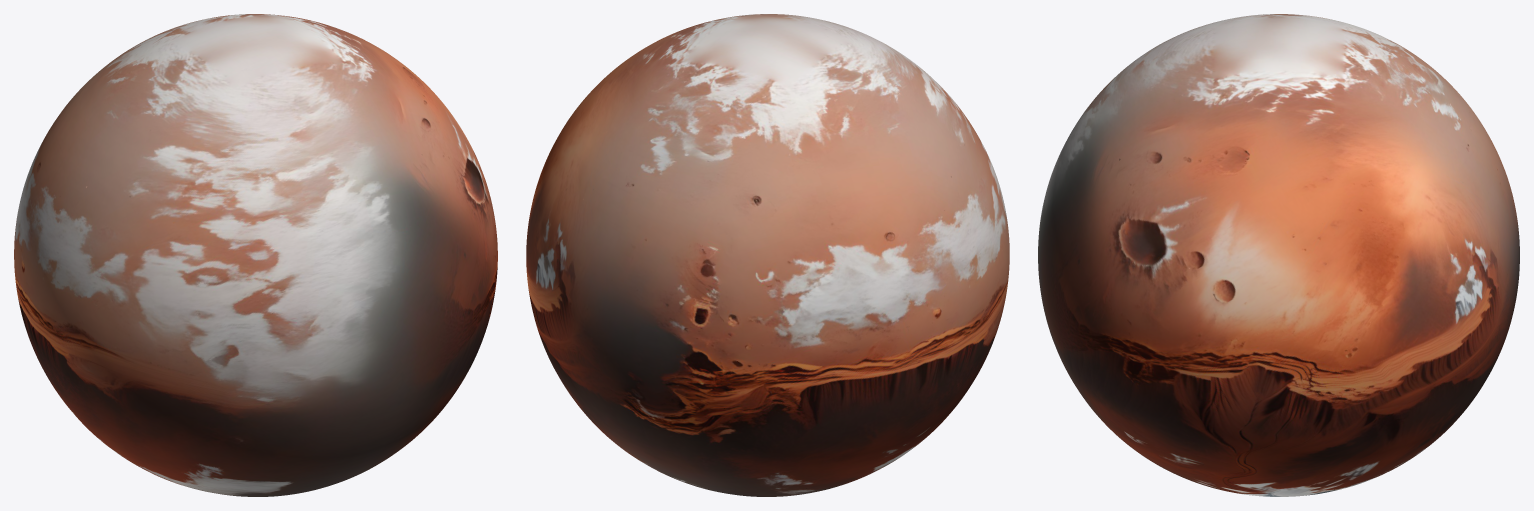
Rendered from mars_planet_20260526.glb.
3 views of the same model, side by side, from view 1: azimuth 30°, elevation 25°; view 2: azimuth 150°, elevation 25°; view 3: azimuth 270°, elevation 25° (orthographic).
Parts seen in each view (by area): view 1: node_0; view 2: node_0; view 3: node_0.
Boxes of the visible parts, x1,y1,x2,y2 form: node_0: (14, 14, 497, 496); node_0: (526, 14, 1009, 496); node_0: (1038, 14, 1519, 496).
Bounding box in the file's own units: 1.19 × 1.19 × 1.19.
1 material, 1 textured.
